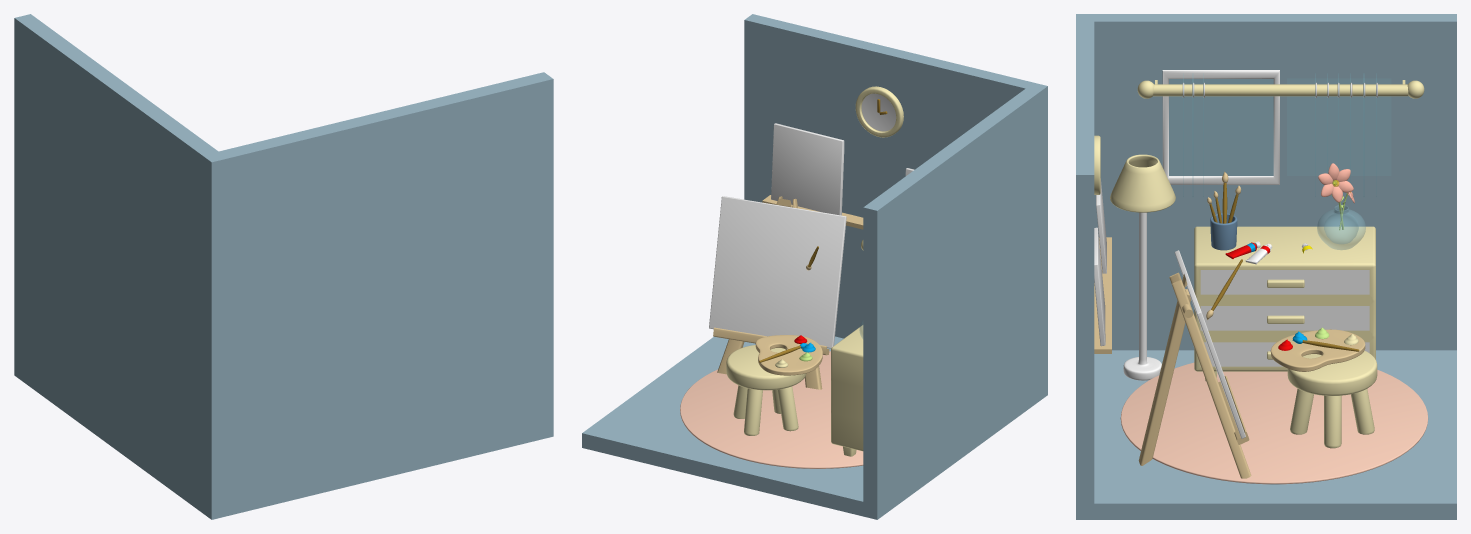
File: painting.gltf
3 renders of one model, left to right at view 1: azimuth 30°, elevation 25°; view 2: azimuth 150°, elevation 25°; view 3: azimuth 270°, elevation 25°, orthographic. The views are drawn at different scales.
Visible parts, largest first — view 1: room'-Mat.3; view 2: room'-Mat.3 (×3), canvas, Cylinder.3, canvas.1, Cube-Mat.4, Cylinder.1, Cube.1, Cylinder-Mat.2, Cylinder-Mat.4, Cylinder.5, Cylinder.2, Cube.4; view 3: room'-Mat.3 (×3), Cylinder.3 (×2), Cube-Mat.4, Cube-Mat.2 (×2), Cube.1-Mat.12, Cube.2-Mat.12, Cylinder.1 (×4), Cube.1 (×3), Cylinder (×2), Cube.1-Mat.2, canvas, Cube.13 (+5 smaller).
Part boxes in pixels (x1=…): room'-Mat.3: x1=14, y1=14, x2=553, y2=519; room'-Mat.3 (×3): x1=582, y1=14, x2=1047, y2=519; canvas: x1=709, y1=196, x2=846, y2=348; Cylinder.3: x1=680, y1=351, x2=863, y2=468; canvas.1: x1=771, y1=123, x2=844, y2=215; Cube-Mat.4: x1=831, y1=325, x2=863, y2=451; Cylinder.1: x1=726, y1=345, x2=806, y2=390; Cube.1: x1=755, y1=335, x2=822, y2=375; Cylinder-Mat.2: x1=861, y1=93, x2=896, y2=131; Cylinder-Mat.4: x1=855, y1=86, x2=903, y2=137; Cylinder.5: x1=744, y1=388, x2=762, y2=435; Cylinder.2: x1=777, y1=386, x2=798, y2=431; Cube.4: x1=713, y1=327, x2=829, y2=355; room'-Mat.3 (×3): x1=1076, y1=14, x2=1456, y2=519; Cylinder.3 (×2): x1=1120, y1=362, x2=1428, y2=484; Cube-Mat.4: x1=1194, y1=226, x2=1375, y2=371; Cube-Mat.2 (×2): x1=1200, y1=270, x2=1369, y2=366; Cube.1-Mat.12: x1=1169, y1=79, x2=1273, y2=175; Cube.2-Mat.12: x1=1287, y1=78, x2=1390, y2=175; Cylinder.1 (×4): x1=1153, y1=84, x2=1408, y2=395; Cube.1 (×3): x1=1138, y1=274, x2=1365, y2=478; Cylinder (×2): x1=1110, y1=154, x2=1175, y2=380; Cube.1-Mat.2: x1=1162, y1=70, x2=1279, y2=184; canvas: x1=1174, y1=250, x2=1245, y2=438; Cube.13: x1=1094, y1=237, x2=1111, y2=353.
Size of what is drawn, in the model's own units: 1050 by 1050 by 1050.
